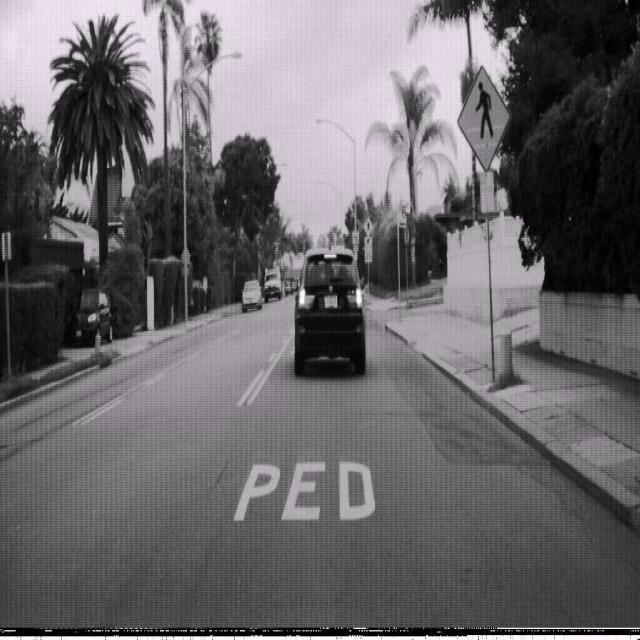pedestrianCrossing: (456, 64, 512, 173)
